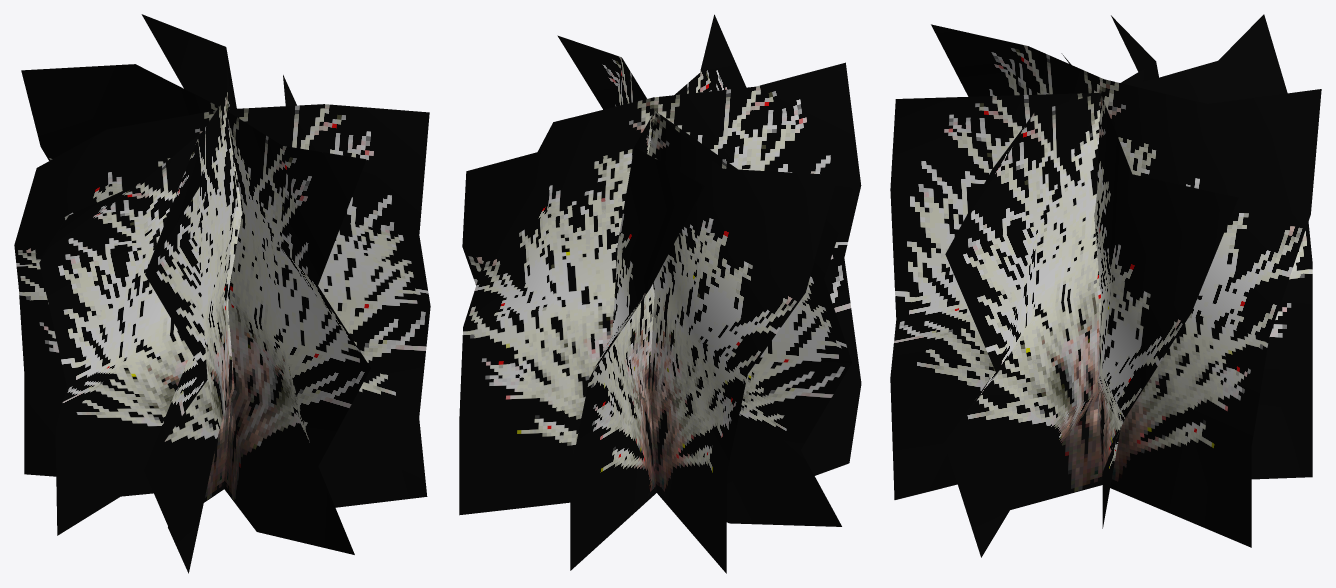
The model's file is Кустарник 2.fbx.
3 views of the same model, side by side, from view 1: azimuth 30°, elevation 25°; view 2: azimuth 150°, elevation 25°; view 3: azimuth 270°, elevation 25° (orthographic). The views are drawn at different scales.
Visible parts, largest first — view 1: bush-1-восстановлено; view 2: bush-1-восстановлено; view 3: bush-1-восстановлено.
Part boxes in pixels (x1=…): bush-1-восстановлено: x1=14, y1=14, x2=430, y2=573; bush-1-восстановлено: x1=459, y1=14, x2=861, y2=573; bush-1-восстановлено: x1=890, y1=14, x2=1321, y2=557.
Bounding box in the file's own units: 613 × 639 × 613.
